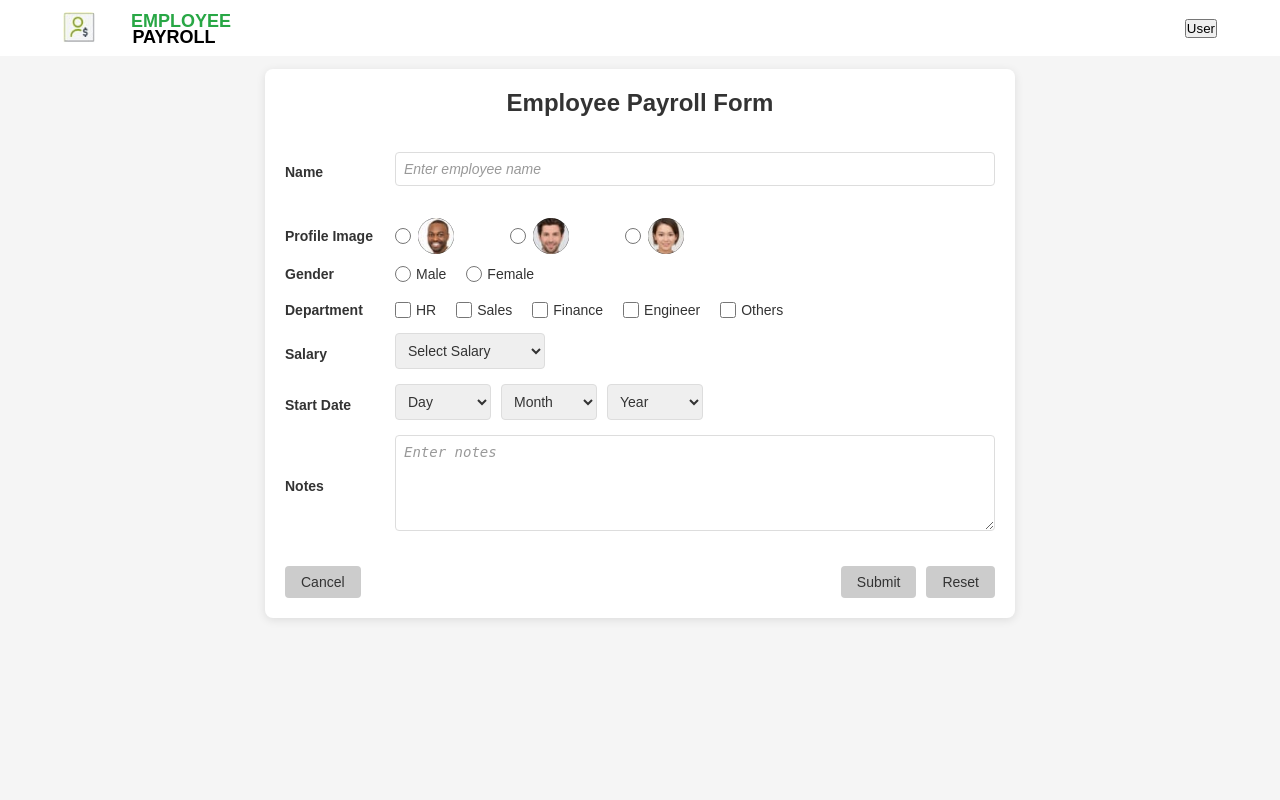
Test: EmployeeForm Component › should clear the form when reset is clicked
The width and height of the screenshot is (1280, 800).
Type "John Doe" into the field with placeholder "Enter employee name".
click(695, 169); type("John Doe")  # box left=395, top=152, right=995, bottom=186
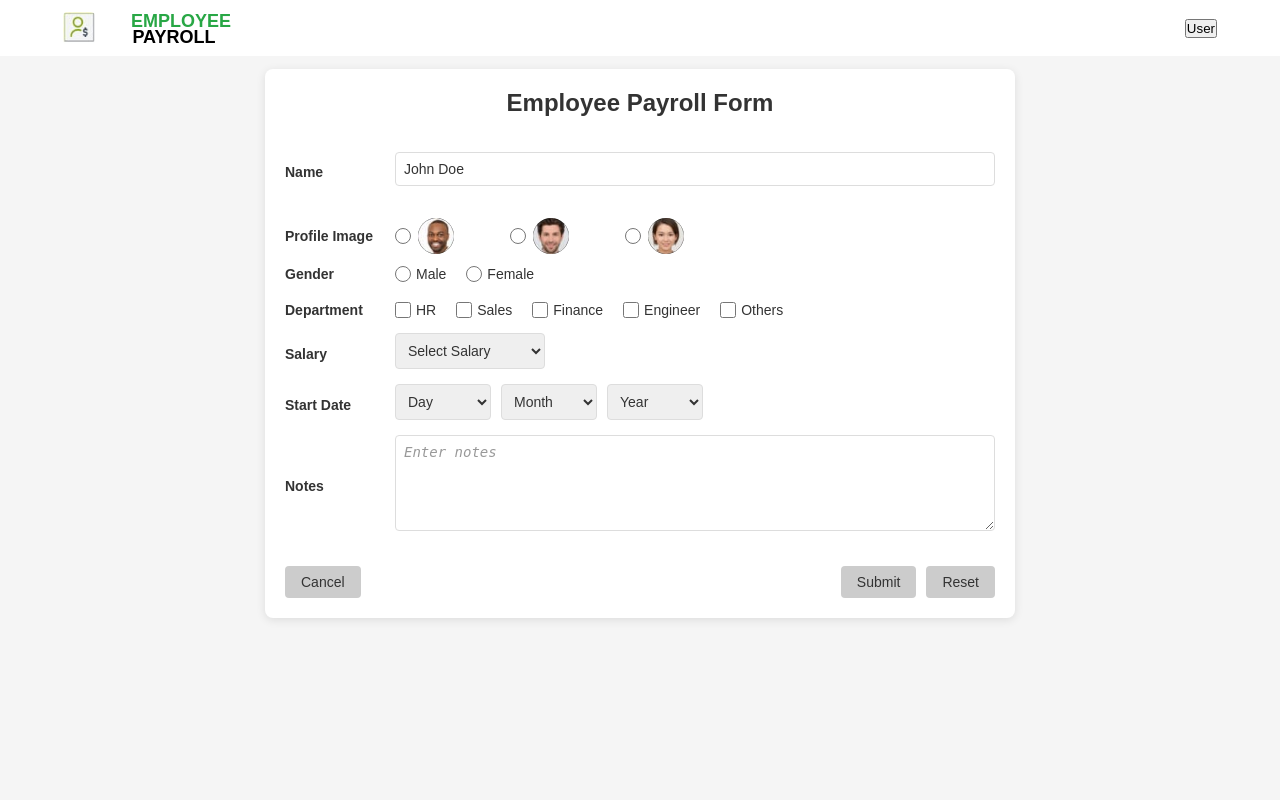
Click the button "Reset".
click(961, 582)  # box left=926, top=566, right=995, bottom=598
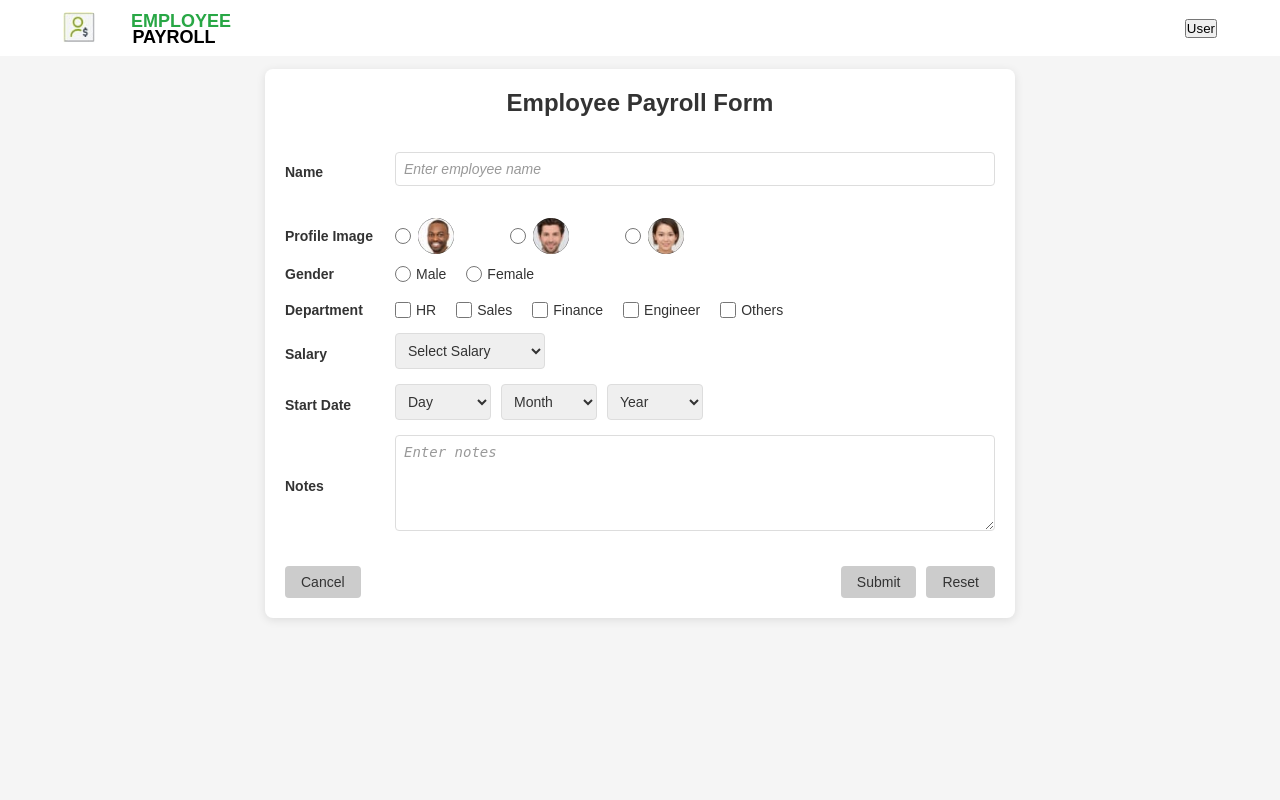
Check: the field with placeholder "Enter employee name" is empty, box left=395, top=152, right=995, bottom=186
